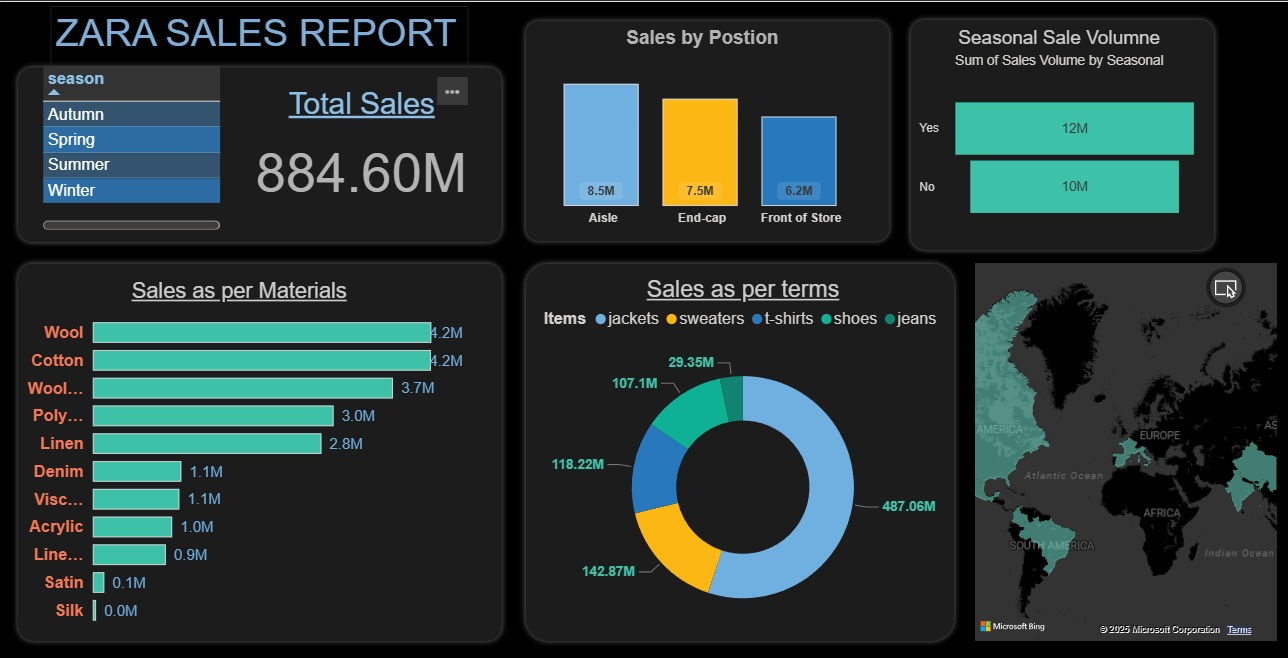

This screenshot's page, from the dashboard's own definition file:
{"tool":"powerbi","page":{"name":"Page 1","canvas":[1280,720],"ordinal":0},"visuals":[{"type":"shape","box":[511.7,251.5,433.1,382.8],"z":0},{"type":"shape","box":[13.5,251.5,487.1,382.8],"z":1000},{"type":"shape","box":[511.7,13.5,369.3,228.2],"z":2000},{"type":"shape","box":[13.5,58.9,487.1,184.1],"z":3000},{"type":"textbox","box":[51.5,4.9,409.8,68.7],"z":4000},{"type":"clusteredBarChart","title":"Sales as per Materials","fields":{"Y":["Sum(Zara_sales_EDA.Sales Volume)"],"Category":["Zara_sales_EDA.material"]},"box":[12.3,272.4,449.1,352.1],"z":5000},{"type":"donutChart","title":"Sales as per terms","fields":{"Category":["Zara_sales_EDA.terms"],"Y":["Sum(Zara_sales_EDA.Sales)"]},"box":[517.8,269.9,427,362],"z":6000},{"type":"tableEx","fields":{"Values":["Zara_sales_EDA.season"]},"box":[38,58.9,185.3,170.6],"z":7000},{"type":"columnChart","title":"Sales by Postion","fields":{"Y":["Sum(Zara_sales_EDA.Sales Volume)"],"Category":["Zara_sales_EDA.Product Position"],"Series":["Zara_sales_EDA.Product Position"]},"box":[511.7,25.8,359.5,203.7],"z":8000},{"type":"card","title":"Total Sales","fields":{"Values":["Sum(Zara_sales_EDA.Sales)"]},"box":[231.9,84.7,250.3,132.5],"z":9000},{"type":"shape","box":[889.6,12.3,310.4,238],"z":10000},{"type":"funnel","title":"Seasonal Sale Volumne","fields":{"Category":["Zara_sales_EDA.Seasonal"],"Y":["Sum(Zara_sales_EDA.Sales Volume)"]},"box":[899.4,25.8,284.7,216],"z":11000},{"type":"filledMap","fields":{"Category":["Sheet1.region"]},"box":[953.4,251.5,308,382.8],"z":11001}]}

Visuals, with their boxes on the page's 1280x720 design canvas (x1, y1, x2, y2). These are canvas units, not pixel positions in the 1288x658 screenshot, which may show the page scaled, cropped or inside an application window:
shape: <region>512, 252, 945, 634</region>
shape: <region>14, 252, 501, 634</region>
shape: <region>512, 14, 881, 242</region>
shape: <region>14, 59, 501, 243</region>
textbox: <region>52, 5, 461, 74</region>
"Sales as per Materials" clusteredBarChart: <region>12, 272, 461, 624</region>
"Sales as per terms" donutChart: <region>518, 270, 945, 632</region>
tableEx - Zara_sales_EDA.season: <region>38, 59, 223, 230</region>
"Sales by Postion" columnChart: <region>512, 26, 871, 230</region>
"Total Sales" card: <region>232, 85, 482, 217</region>
shape: <region>890, 12, 1200, 250</region>
"Seasonal Sale Volumne" funnel: <region>899, 26, 1184, 242</region>
filledMap - Sheet1.region: <region>953, 252, 1261, 634</region>
